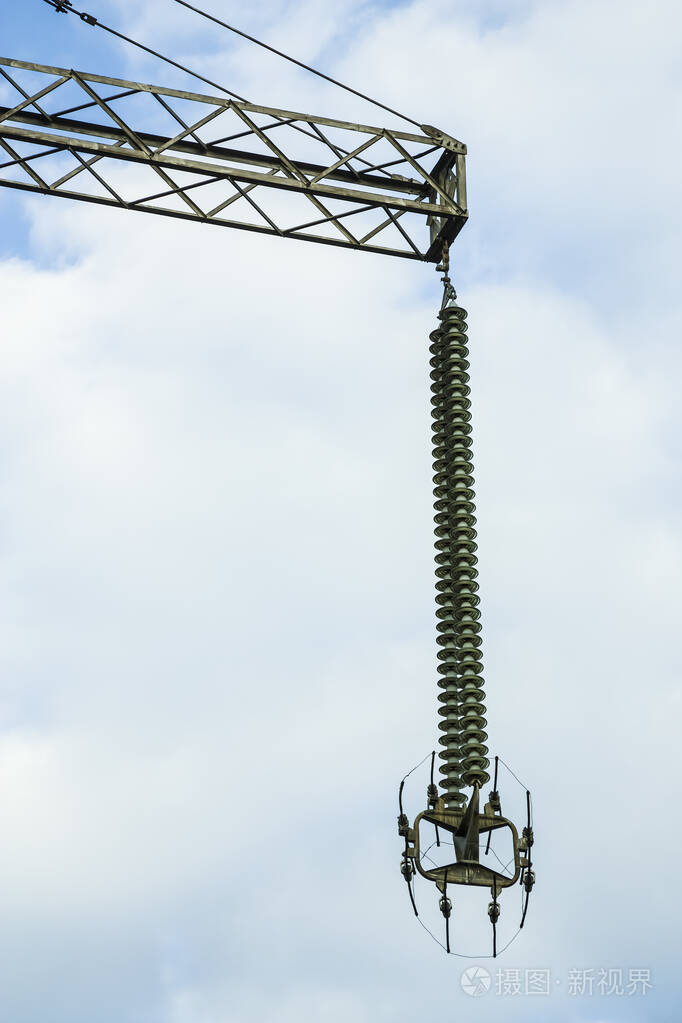insulator: (416, 308, 491, 808)
